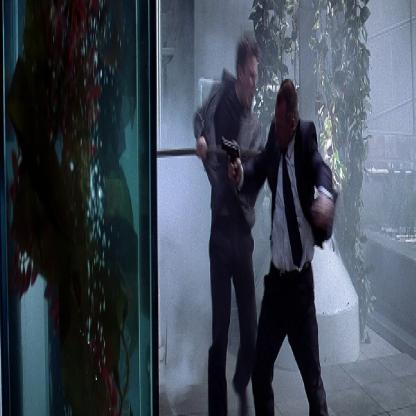Gun: (220, 133, 242, 183)
